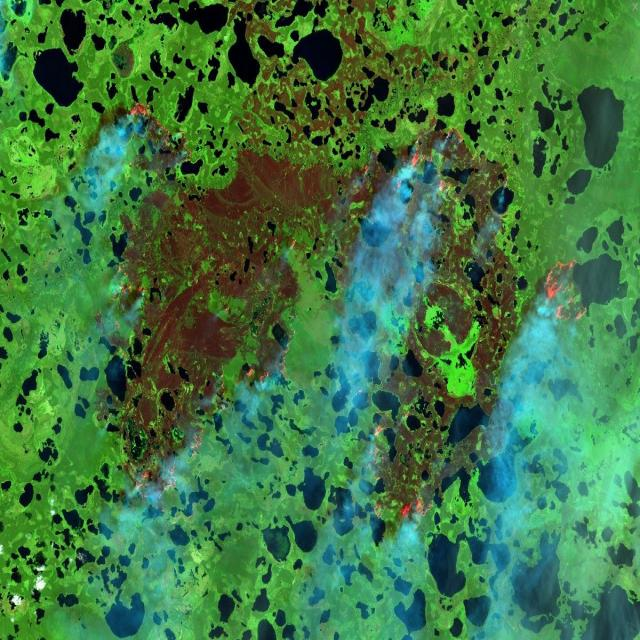fire: (112, 293, 298, 498), (384, 105, 518, 223), (357, 405, 443, 542), (117, 94, 193, 182), (541, 243, 595, 331)
